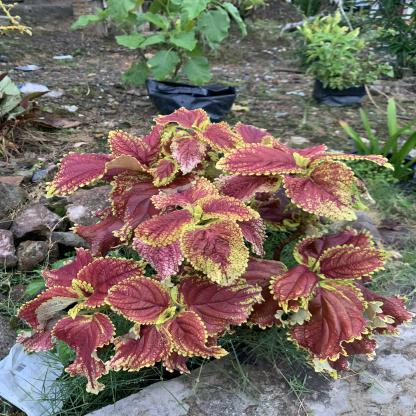Bunga Coleus: (38, 122, 391, 388)
